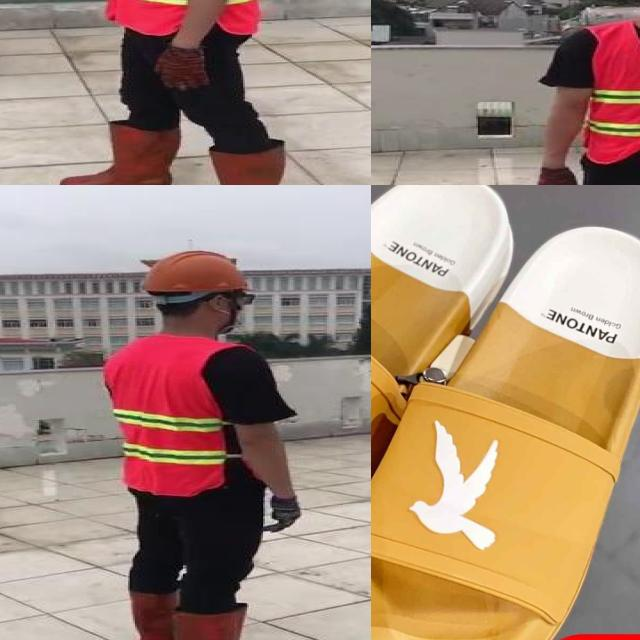Sandals: (371, 185, 640, 640)
boots: (61, 121, 179, 185), (164, 147, 289, 185), (172, 605, 287, 640), (125, 591, 176, 640)
hand_glove: (154, 46, 211, 92), (266, 495, 306, 538), (534, 167, 579, 185)
head_helmet: (137, 248, 254, 296)
person: (90, 243, 311, 640), (52, 0, 303, 185), (526, 0, 640, 185)
vest: (103, 333, 245, 497), (582, 24, 640, 163), (111, 0, 260, 35)
